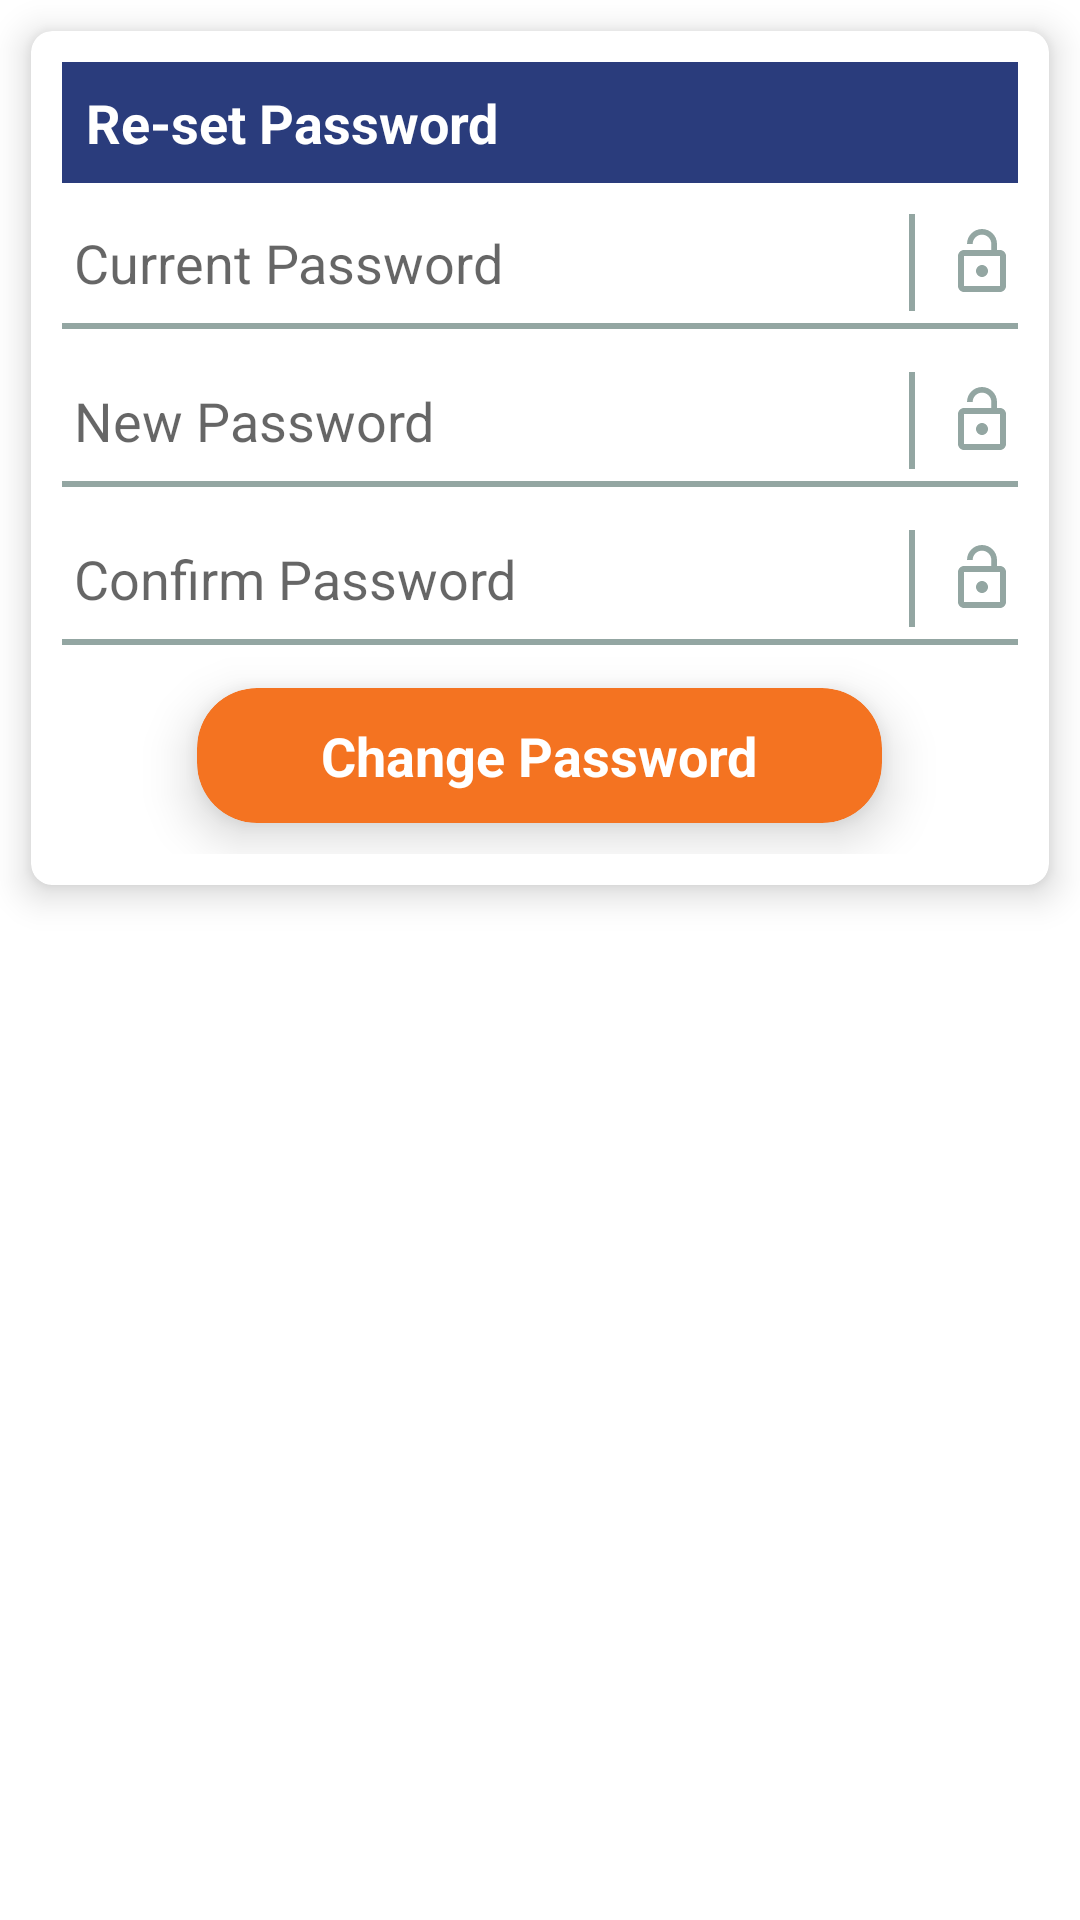

Icon click points for this 1080x1920 phone screenshot, format [x,y]:
lock open: [982,260], [982,418], [982,576]
